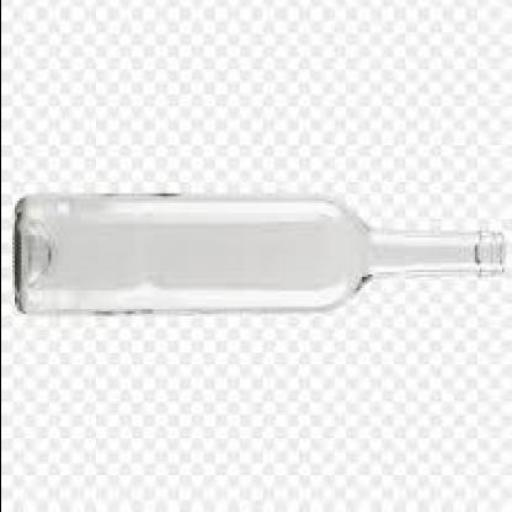glass: (13, 196, 505, 314)
